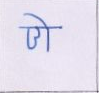e_matra: (23, 12, 50, 26)
